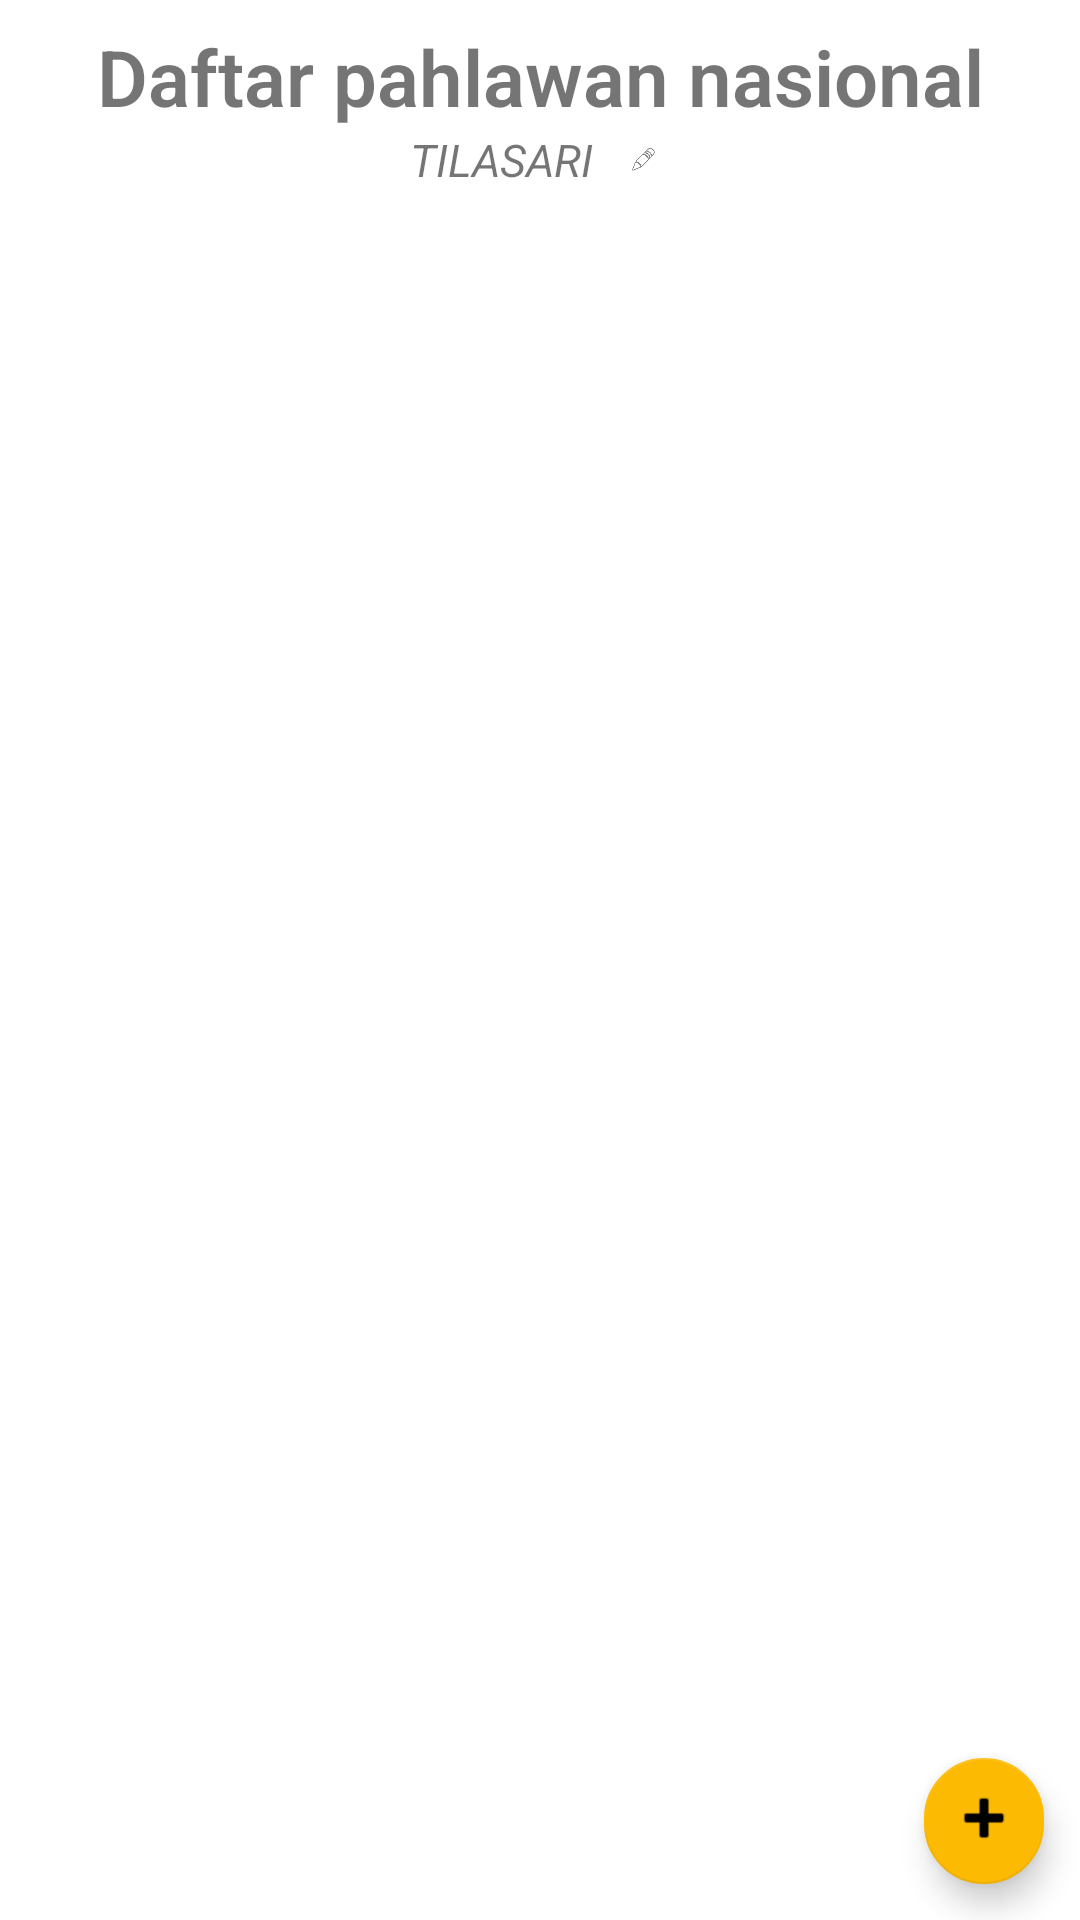

Screen size 1080px x 1920px. Icon name, then its center in pixels as (x,y):
add: (985,1827)
